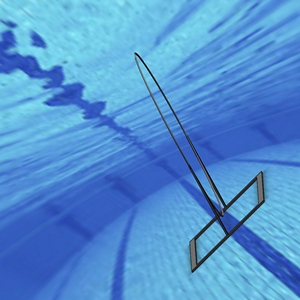circle: (130, 47, 265, 273)
